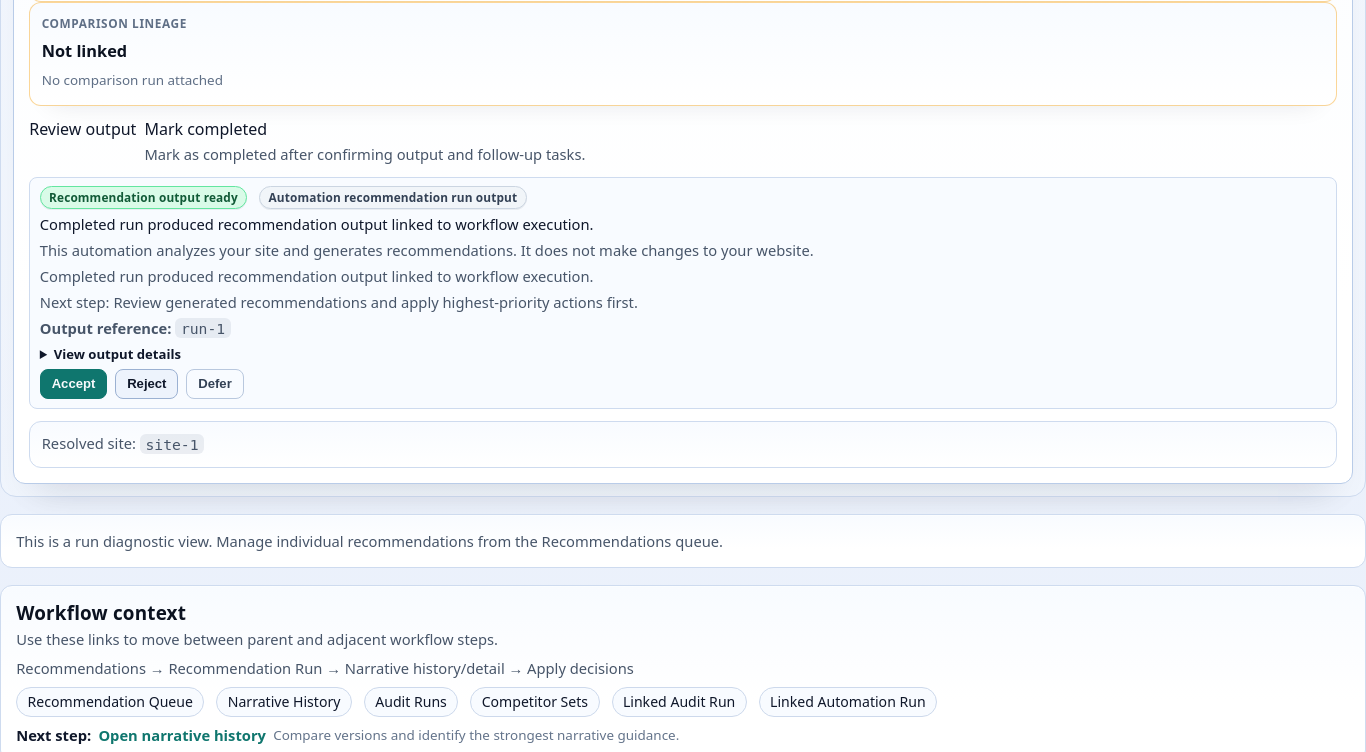
Test case: recommendation run detail page presentation › captures local output-review decisions for run-level action control
(page scrolled)
Step 1. Click the button "Defer" → (215, 384), box [186,369,244,399]
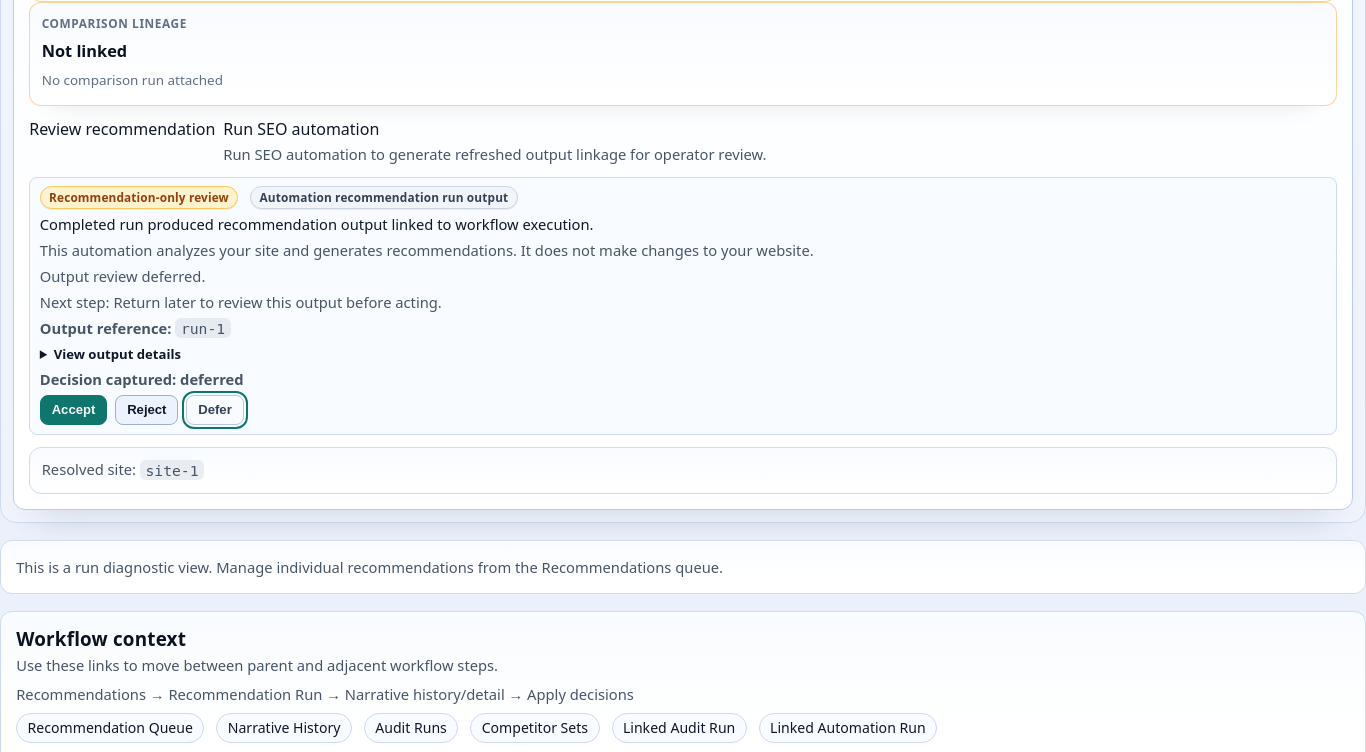
Result: the text "Decision captured: deferred" is shown at [40,369,244,389]
Result: the element with test id "recommendation-run-output-review" shows "Output review deferred." at [40,266,205,286]
